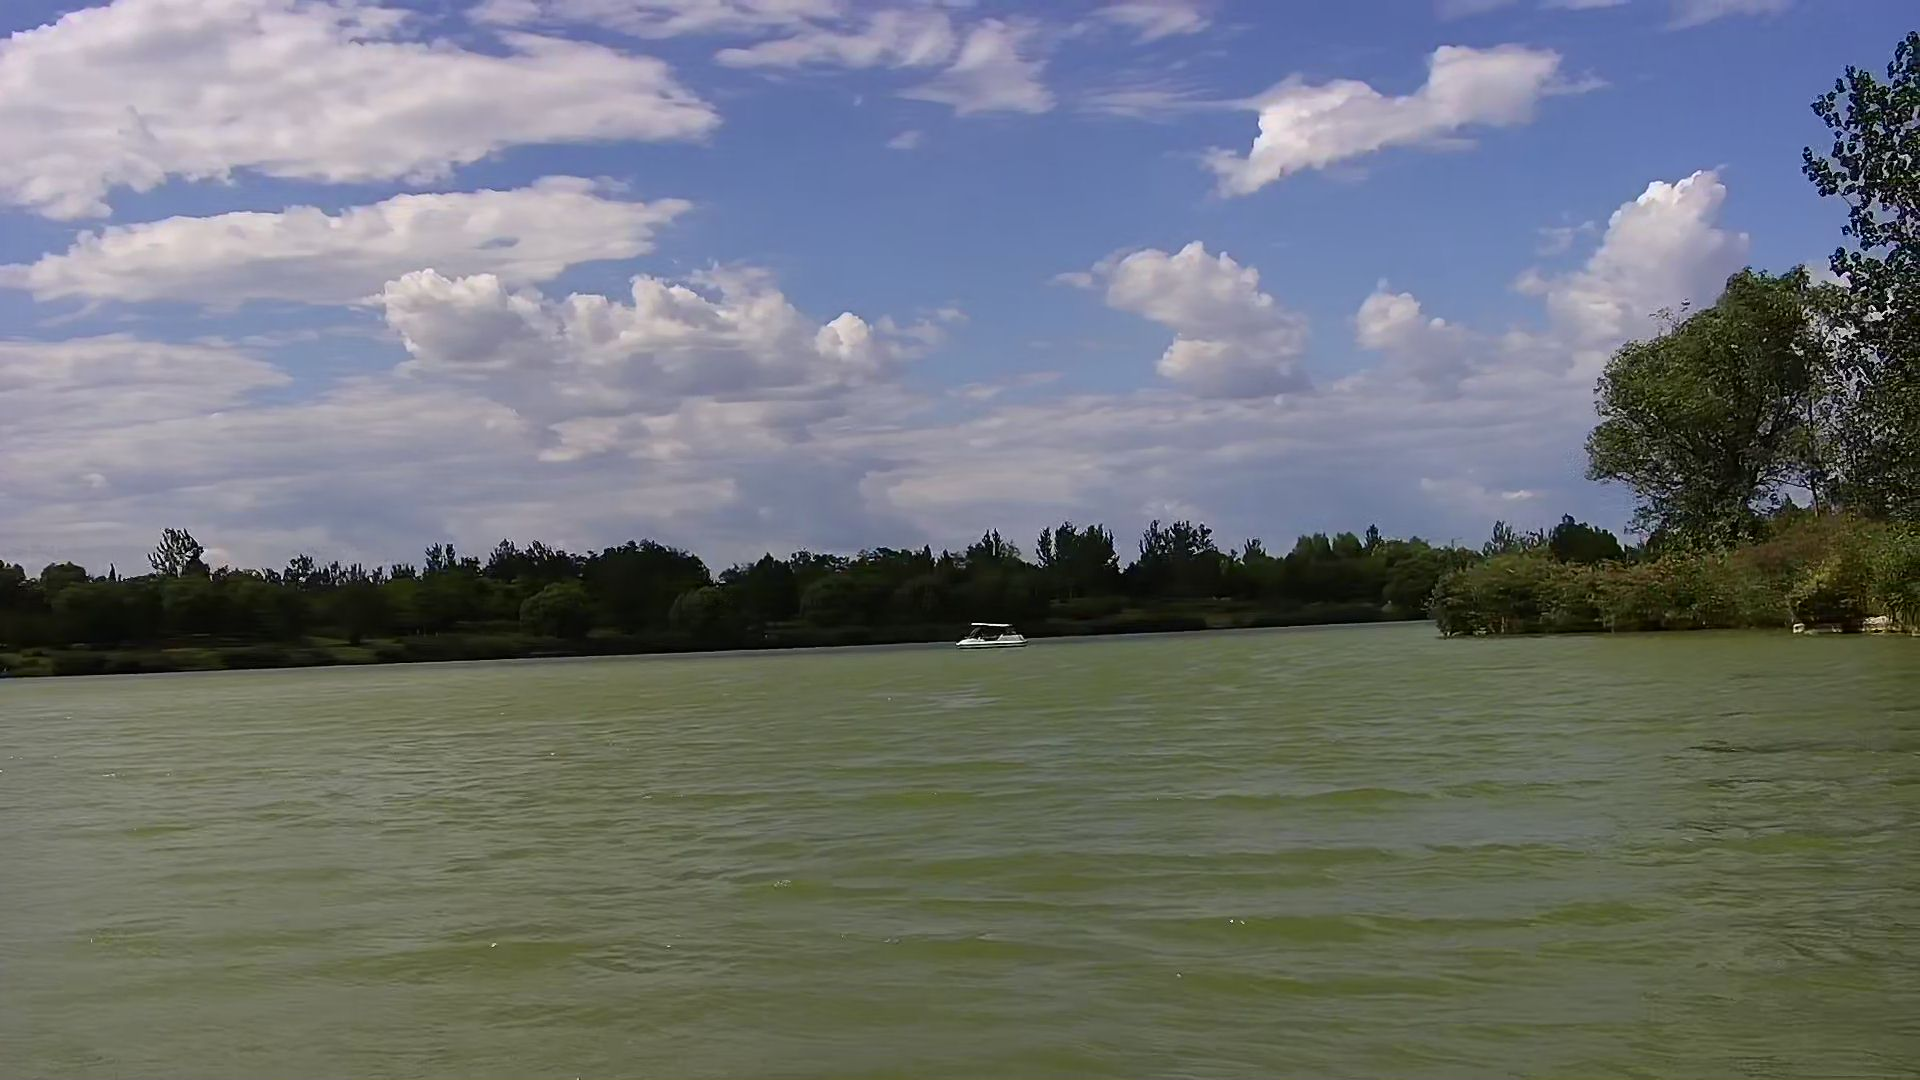boat: (955, 613, 1025, 647)
